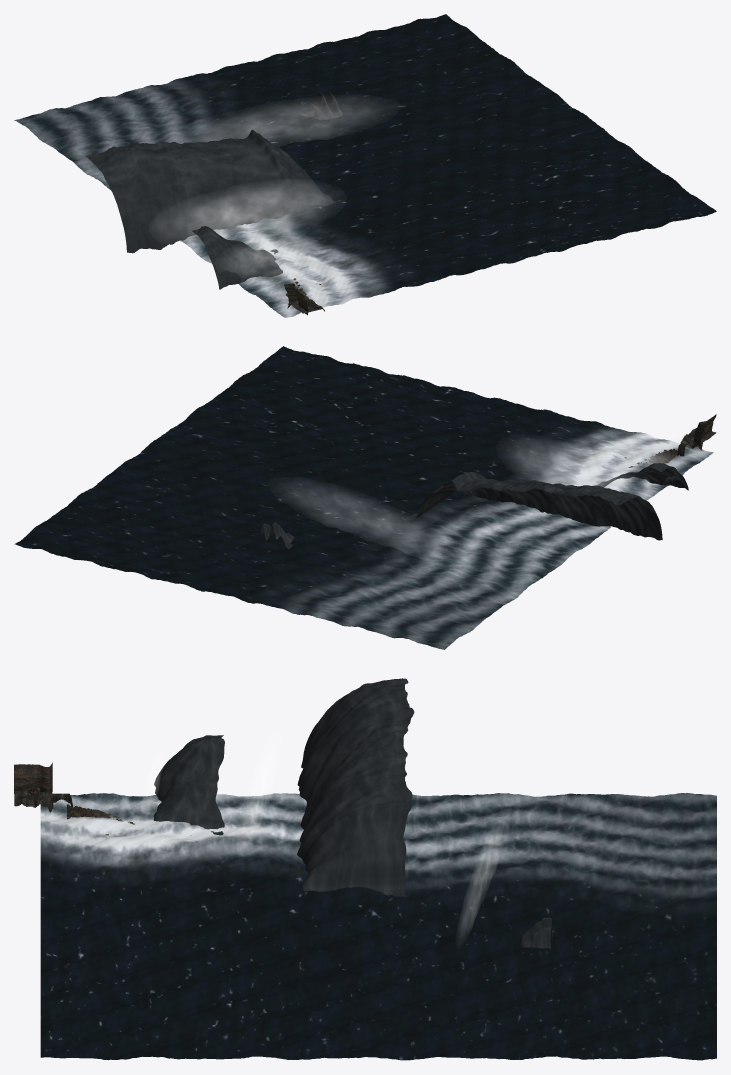
The picture shows the model from 3 angles, top to bottom: view 1: azimuth 30°, elevation 25°; view 2: azimuth 150°, elevation 25°; view 3: azimuth 270°, elevation 25°; orthographic projection. The views are drawn at different scales.
Visible parts, largest first — view 1: Sea_Surface, Cliff_Distant_Far, Mist_Layer_Far, Mist_Layer_Horizon, Cliff_Distant_Mid, Mist_Layer_Mid, Cliff_SeaStacks; view 2: Sea_Surface, Cliff_Distant_Far, Mist_Layer_Horizon, Mist_Layer_Far, Mist_Layer_Mid, Cliff_Distant_Mid; view 3: Sea_Surface, Cliff_Distant_Far, Cliff_Distant_Mid, Mist_Layer_Far, Mist_Layer_Horizon, Cliff_Left, Cliff_SeaStacks, Platform_Stone.
Part boxes in pixels (x1,y1,x2,y2): Sea_Surface: (14,14,716,317); Cliff_Distant_Far: (86,129,335,253); Mist_Layer_Far: (174,186,326,240); Mist_Layer_Horizon: (191,102,372,141); Cliff_Distant_Mid: (192,226,289,289); Mist_Layer_Mid: (230,239,308,272); Cliff_SeaStacks: (300,91,343,119); Sea_Surface: (14,346,713,649); Cliff_Distant_Far: (405,472,662,540); Mist_Layer_Horizon: (290,488,437,550); Mist_Layer_Far: (512,443,635,494); Mist_Layer_Mid: (609,436,672,467); Cliff_Distant_Mid: (597,463,688,490); Sea_Surface: (40,793,716,1060); Cliff_Distant_Far: (297,678,414,896); Cliff_Distant_Mid: (153,735,224,835); Mist_Layer_Far: (242,742,276,843); Mist_Layer_Horizon: (462,823,503,928); Cliff_Left: (14,762,52,793); Cliff_SeaStacks: (520,917,554,948); Platform_Stone: (14,790,53,812).
Size of the model in its own units: 147 by 23.47 by 148.
Materials: 23 (20 with a texture image).
